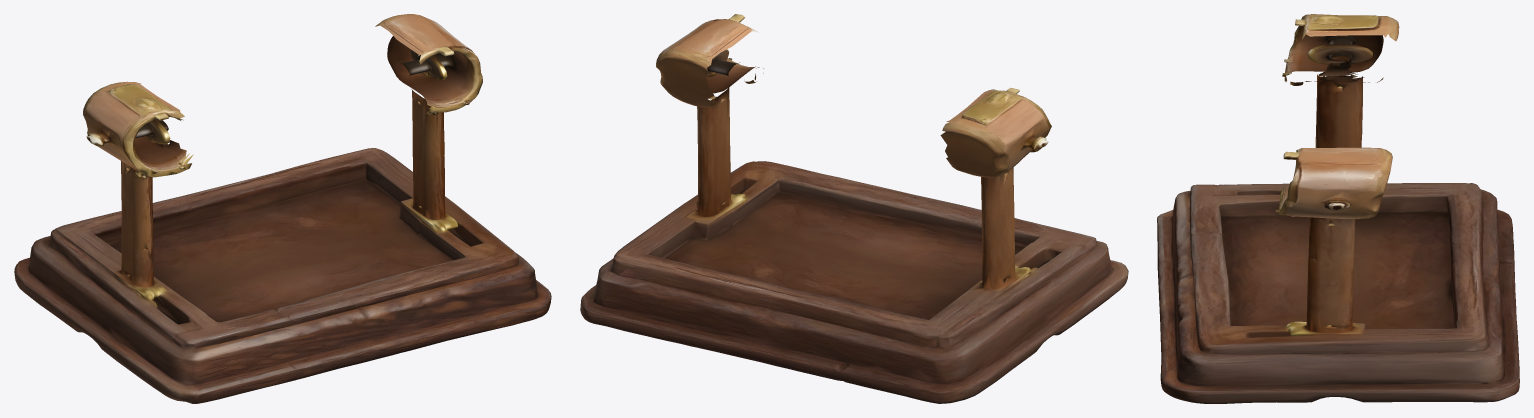
The model's file is cargo_cradle.glb.
3 views of the same model, side by side, from view 1: azimuth 30°, elevation 25°; view 2: azimuth 150°, elevation 25°; view 3: azimuth 270°, elevation 25° (orthographic). The views are drawn at different scales.
Parts seen in each view (by area): view 1: tripo_node_a457b7ac-cccd-4b5e-bd0b-6cad32c94514; view 2: tripo_node_a457b7ac-cccd-4b5e-bd0b-6cad32c94514; view 3: tripo_node_a457b7ac-cccd-4b5e-bd0b-6cad32c94514.
Part boxes in pixels (x1,y1,x2,y2): tripo_node_a457b7ac-cccd-4b5e-bd0b-6cad32c94514: (14, 14, 551, 403); tripo_node_a457b7ac-cccd-4b5e-bd0b-6cad32c94514: (580, 14, 1128, 403); tripo_node_a457b7ac-cccd-4b5e-bd0b-6cad32c94514: (1157, 14, 1519, 403).
Size of the model in its own units: 0.28 by 0.16 by 0.23.
Materials: 1 (1 with a texture image).
